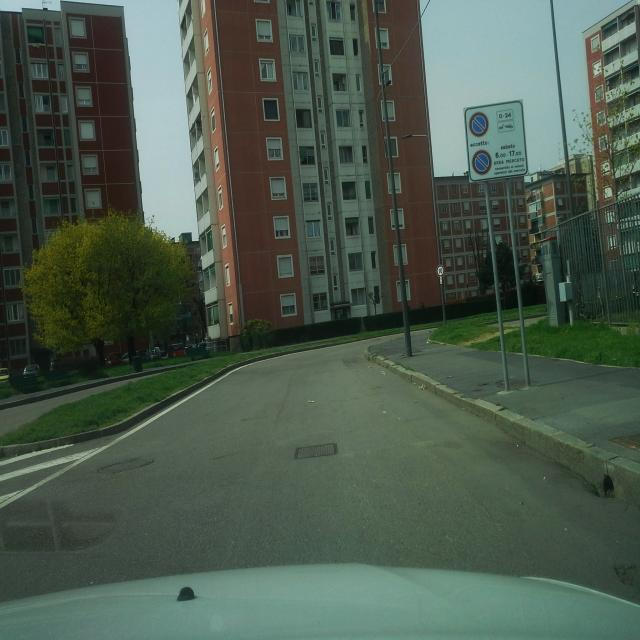car: (104, 351, 128, 365), (22, 363, 42, 377), (0, 367, 10, 382)
